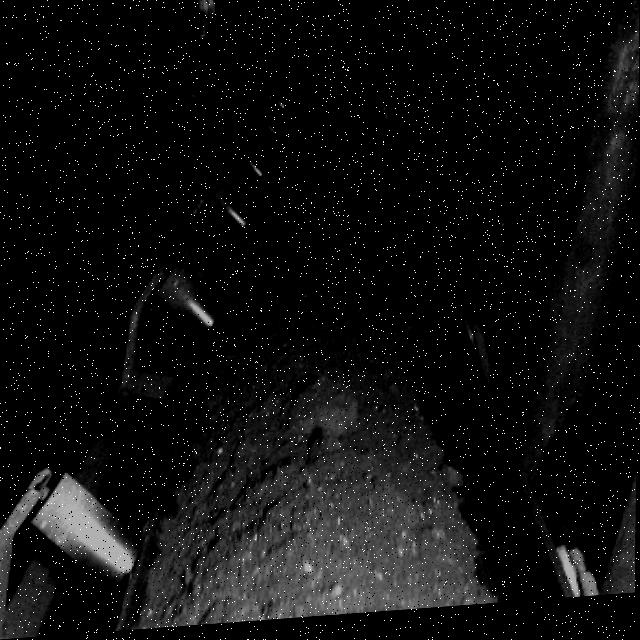large_sized_coal: (286, 375, 360, 450), (326, 192, 370, 240), (260, 174, 292, 219)
